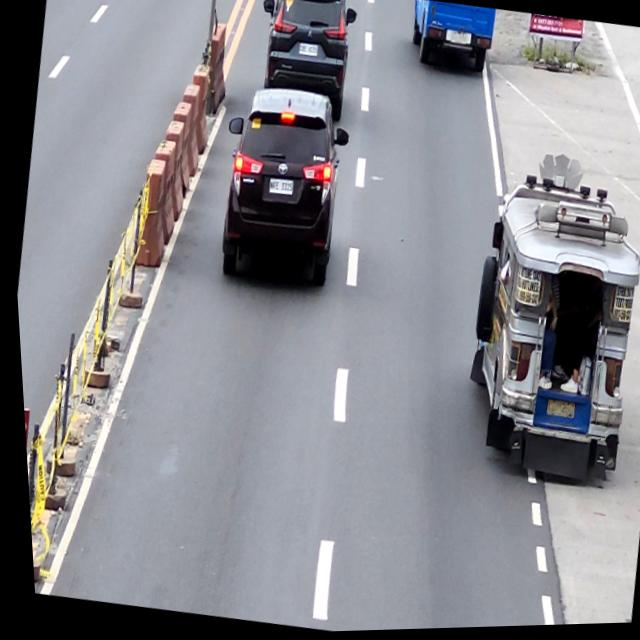Car: (202, 80, 362, 298), (244, 0, 366, 127)
Jeep: (440, 171, 640, 494)
License-Plate: (540, 400, 572, 425), (266, 178, 293, 198), (296, 45, 319, 60)
